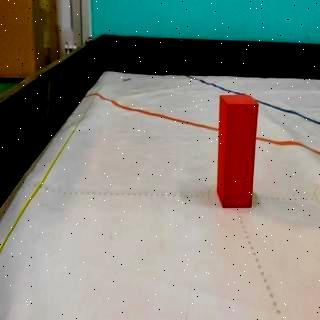redbox: (215, 96, 259, 210)
